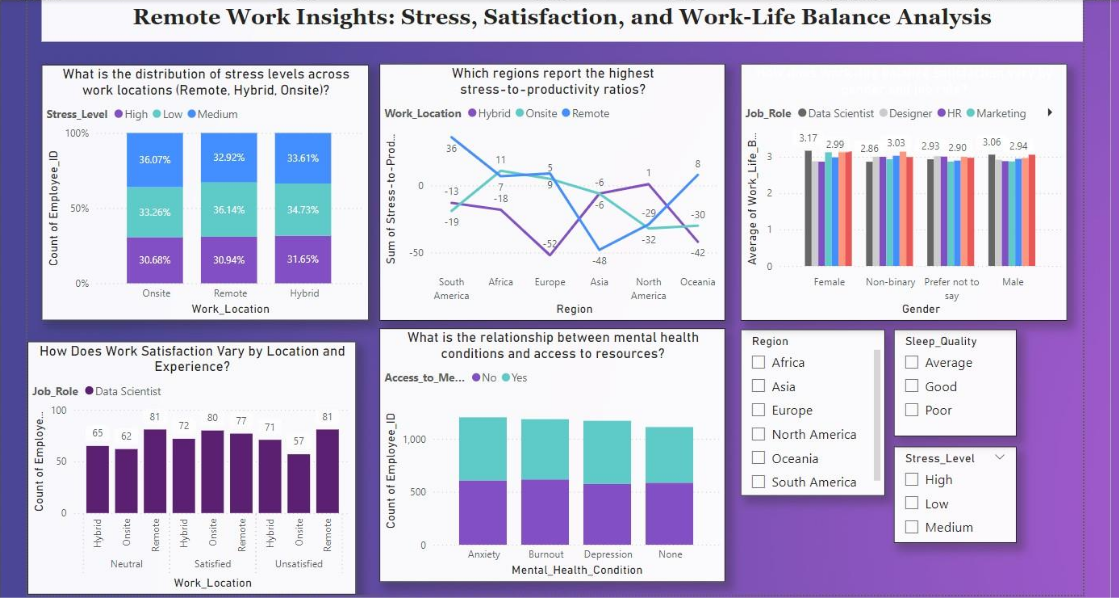

Layout of this report page (visuals, bound fields, positions):
{"tool":"powerbi","page":{"name":"Remote Work Insights: Stress, Satisfaction, and Work-Life Balance Analysis","canvas":[1280,720],"ordinal":0},"visuals":[{"type":"lineClusteredColumnComboChart","title":"How Does Work Satisfaction Vary by Location and Experience?","fields":{"Category":["Impact_of_Remote_Work_on_Mental_Health.Satisfaction_with_Remote_Work","Impact_of_Remote_Work_on_Mental_Health.Work_Location"],"Y":["CountNonNull(Impact_of_Remote_Work_on_Mental_Health.Employee_ID)"],"Series":["Impact_of_Remote_Work_on_Mental_Health.Job_Role"]},"box":[0,413.3,398.3,306.7],"z":0},{"type":"slicer","fields":{"Values":["Impact_of_Remote_Work_on_Mental_Health.Region"]},"box":[864.1,398.4,175,201.6],"z":1000},{"type":"slicer","fields":{"Values":["Impact_of_Remote_Work_on_Mental_Health.Stress_Level"]},"box":[1050,540.6,148.4,117.2],"z":2000},{"type":"slicer","fields":{"Values":["Impact_of_Remote_Work_on_Mental_Health.Sleep_Quality"]},"box":[1050,398.4,148.4,129.7],"z":3000},{"type":"textbox","box":[17.2,0,1262.5,50],"z":4000},{"type":"hundredPercentStackedColumnChart","title":"What is the distribution of stress levels across work locations (Remote, Hybrid, Onsite)?","fields":{"Category":["Impact_of_Remote_Work_on_Mental_Health.Work_Location"],"Y":["CountNonNull(Impact_of_Remote_Work_on_Mental_Health.Employee_ID)"],"Series":["Impact_of_Remote_Work_on_Mental_Health.Stress_Level"]},"box":[17.3,77.7,397.1,309.6],"z":5000},{"type":"lineChart","title":"Which regions report the highest stress-to-productivity ratios?","fields":{"Category":["Impact_of_Remote_Work_on_Mental_Health.Region"],"Y":["Sum(Impact_of_Remote_Work_on_Mental_Health.Stress-to-Productivity Ratio)"],"Series":["Impact_of_Remote_Work_on_Mental_Health.Work_Location"]},"box":[426.8,76.5,419.3,310.8],"z":6000},{"type":"lineClusteredColumnComboChart","title":"How does work-life balance satisfaction vary by gender and job role?","fields":{"Category":["Impact_of_Remote_Work_on_Mental_Health.Gender"],"Series":["Impact_of_Remote_Work_on_Mental_Health.Job_Role"],"Y":["Avg(Impact_of_Remote_Work_on_Mental_Health.Work_Life_Balance_Rating)"]},"box":[864.6,76.5,395.9,310.8],"z":7000},{"type":"lineStackedColumnComboChart","title":"What is the relationship between mental health conditions and access to resources?","fields":{"Category":["Impact_of_Remote_Work_on_Mental_Health.Mental_Health_Condition"],"Y":["Count(Impact_of_Remote_Work_on_Mental_Health.Employee_ID)"],"Series":["Impact_of_Remote_Work_on_Mental_Health.Access_to_Mental_Health_Resources"]},"box":[426.8,397.4,419.4,306.9],"z":8000}]}

Visuals, with their boxes in screenshot pixels (x1, y1, x2, y2):
"How Does Work Satisfaction Vary by Location and Experience?" lineClusteredColumnComboChart: {"left": 26, "top": 340, "right": 354, "bottom": 592}
slicer - Impact_of_Remote_Work_on_Mental_Health.Region: {"left": 737, "top": 328, "right": 881, "bottom": 493}
slicer - Impact_of_Remote_Work_on_Mental_Health.Stress_Level: {"left": 890, "top": 444, "right": 1012, "bottom": 541}
slicer - Impact_of_Remote_Work_on_Mental_Health.Sleep_Quality: {"left": 890, "top": 328, "right": 1012, "bottom": 434}
textbox: {"left": 40, "top": 0, "right": 1078, "bottom": 41}
"What is the distribution of stress levels across work locations (Remote, Hybrid, Onsite)?" hundredPercentStackedColumnChart: {"left": 40, "top": 64, "right": 367, "bottom": 318}
"Which regions report the highest stress-to-productivity ratios?" lineChart: {"left": 377, "top": 63, "right": 722, "bottom": 318}
"How does work-life balance satisfaction vary by gender and job role?" lineClusteredColumnComboChart: {"left": 737, "top": 63, "right": 1063, "bottom": 318}
"What is the relationship between mental health conditions and access to resources?" lineStackedColumnComboChart: {"left": 377, "top": 327, "right": 722, "bottom": 579}
